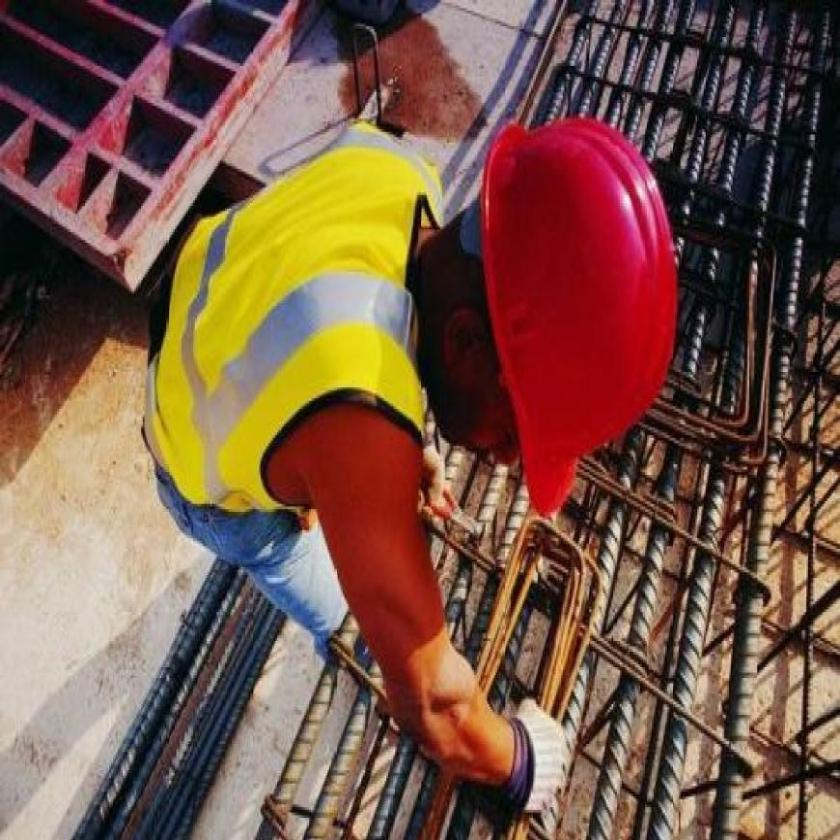Con_casco: (436, 105, 695, 494)
